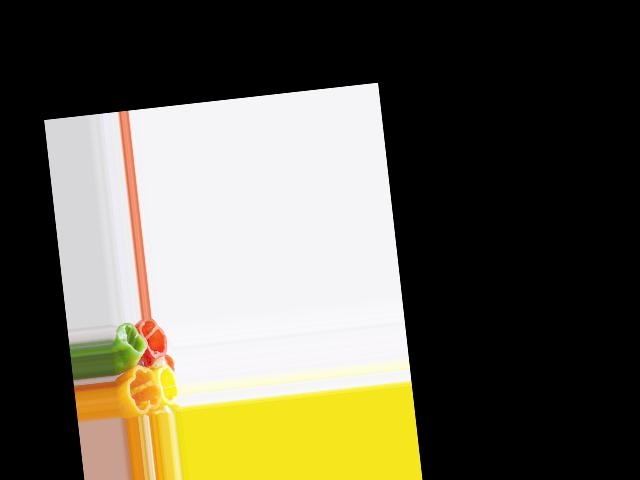bell_pepper: (139, 318, 169, 360)
